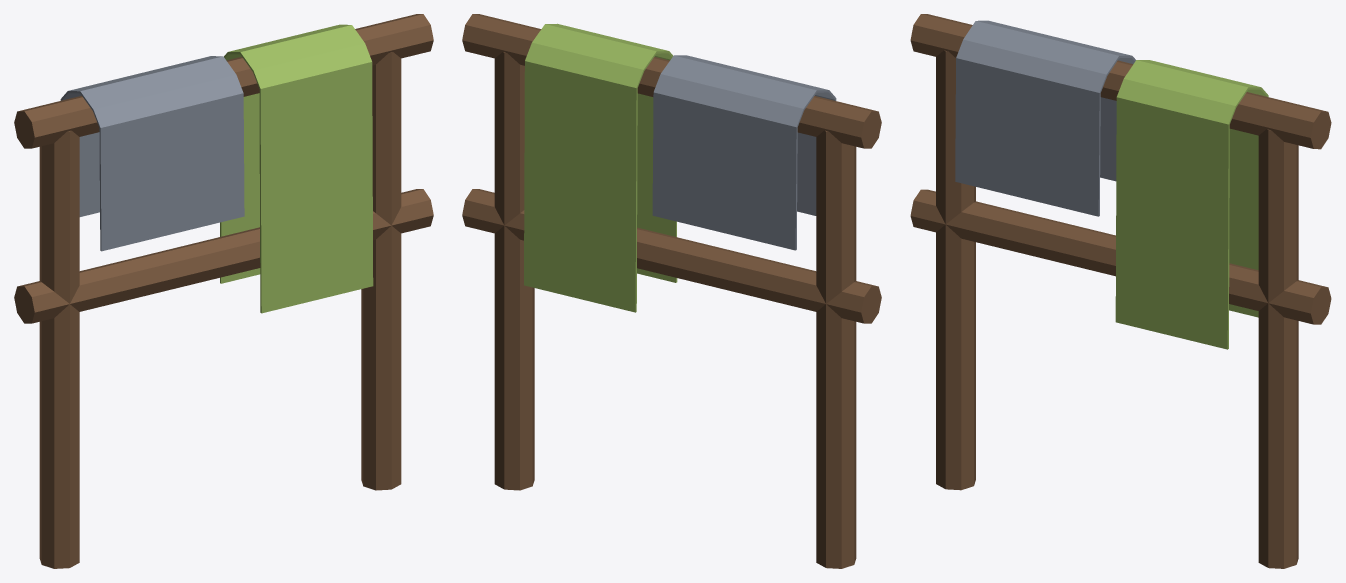
Rendered from dryer.fbx.
The picture shows the model from 3 angles, left to right: view 1: azimuth 30°, elevation 25°; view 2: azimuth 150°, elevation 25°; view 3: azimuth 330°, elevation 25°; orthographic projection.
Visible parts, largest first — view 1: Dryer, Dryer_Towel_1, Dryer_Towel_2; view 2: Dryer, Dryer_Towel_1, Dryer_Towel_2; view 3: Dryer, Dryer_Towel_1, Dryer_Towel_2.
Part boxes in pixels (x1,y1,x2,y2): Dryer: (14,14,433,568); Dryer_Towel_1: (220,24,373,313); Dryer_Towel_2: (60,56,244,251); Dryer: (462,14,881,568); Dryer_Towel_1: (524,23,677,312); Dryer_Towel_2: (652,55,836,250); Dryer: (910,14,1331,568); Dryer_Towel_1: (1115,60,1268,349); Dryer_Towel_2: (955,20,1135,216).
Size of the model in its own units: 156 by 174 by 28.28.
